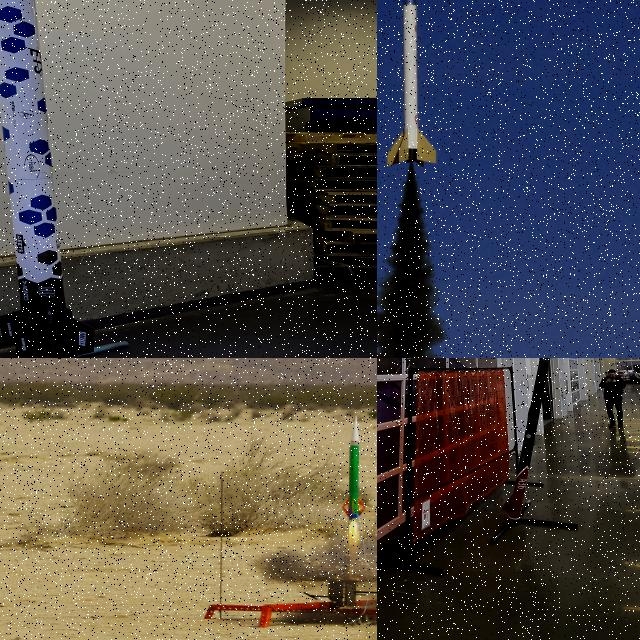Rocket: (384, 0, 438, 168), (502, 358, 550, 518), (342, 415, 366, 521)
